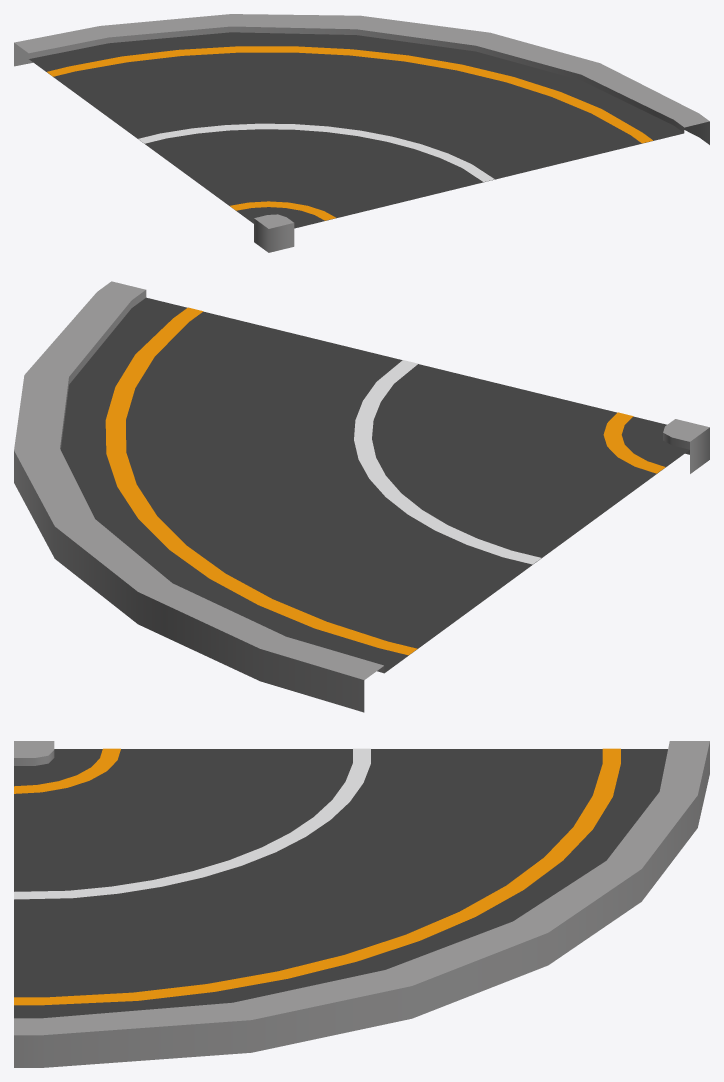
The model's file is Road_A_8.glb.
3 views of the same model, one above another, from view 1: azimuth 30°, elevation 25°; view 2: azimuth 150°, elevation 25°; view 3: azimuth 270°, elevation 25° (orthographic). The views are drawn at different scales.
Parts seen in each view (by area): view 1: Road_A_8; view 2: Road_A_8; view 3: Road_A_8.
Part boxes in pixels (<box>): Road_A_8: <box>14,14,709,252</box>; Road_A_8: <box>14,281,709,712</box>; Road_A_8: <box>14,741,709,1067</box>.
Bounding box in the file's own units: 8 × 0.4148 × 8.
1 material, 1 textured.
